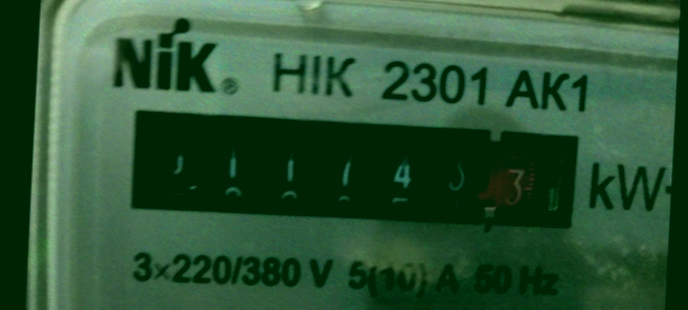0: (158, 129, 190, 177)
1: (278, 136, 302, 185), (223, 133, 243, 182)
3: (442, 146, 472, 195), (501, 163, 527, 208)
4: (388, 143, 418, 192)
7: (334, 141, 360, 190)
screen: (114, 99, 586, 240)
